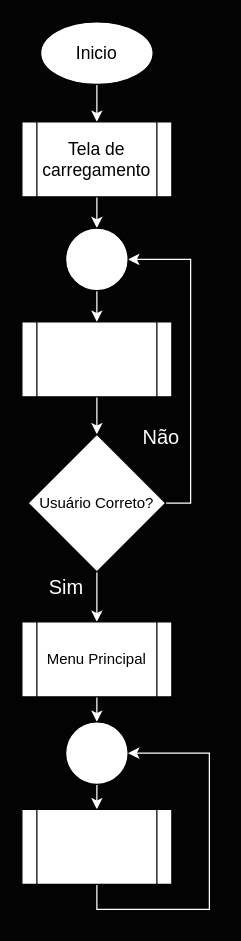
This 241x941 diagram has some shape labels left out. Here are the shapes that lost their labels. From the top down, the centre of each, then its label:
pixel 96 359: Tela de Login
pixel 96 846: Tela de Cadastro, Edição e Exclusão de funcionário
